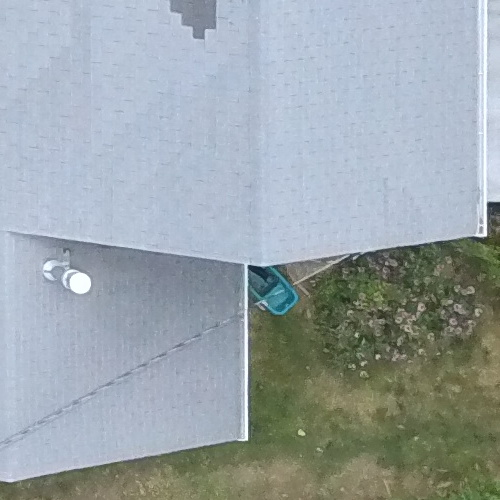container: (254, 260, 307, 334)
